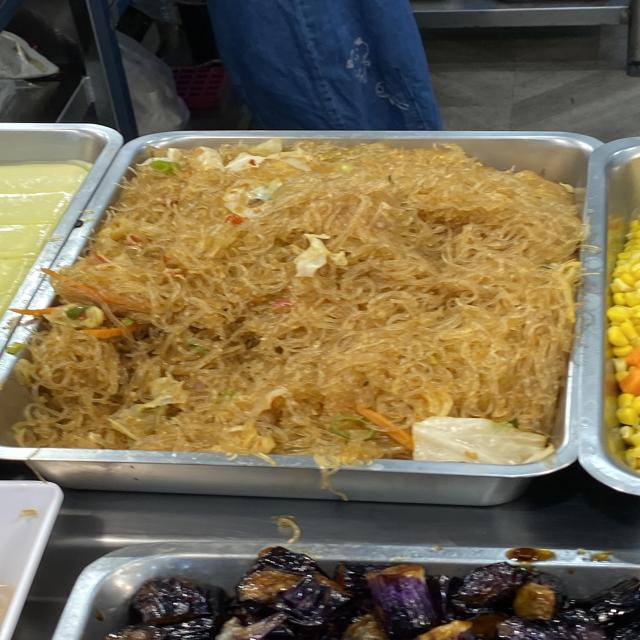Ants climbing the tree: (140, 197, 502, 440)
